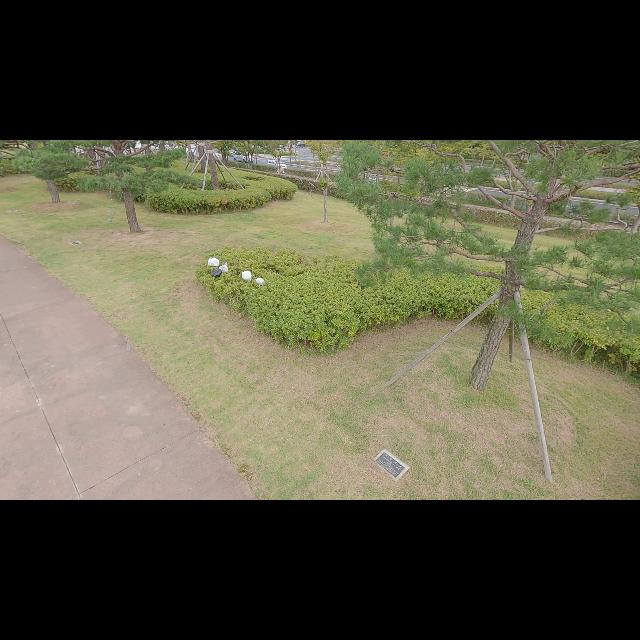trash: (208, 266, 222, 278), (206, 258, 222, 268), (242, 270, 252, 282), (254, 276, 266, 286), (220, 262, 230, 272)
